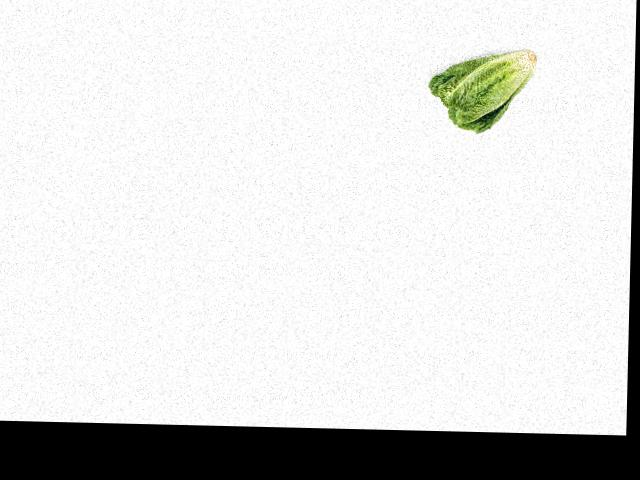lettuce: (428, 44, 544, 133)
